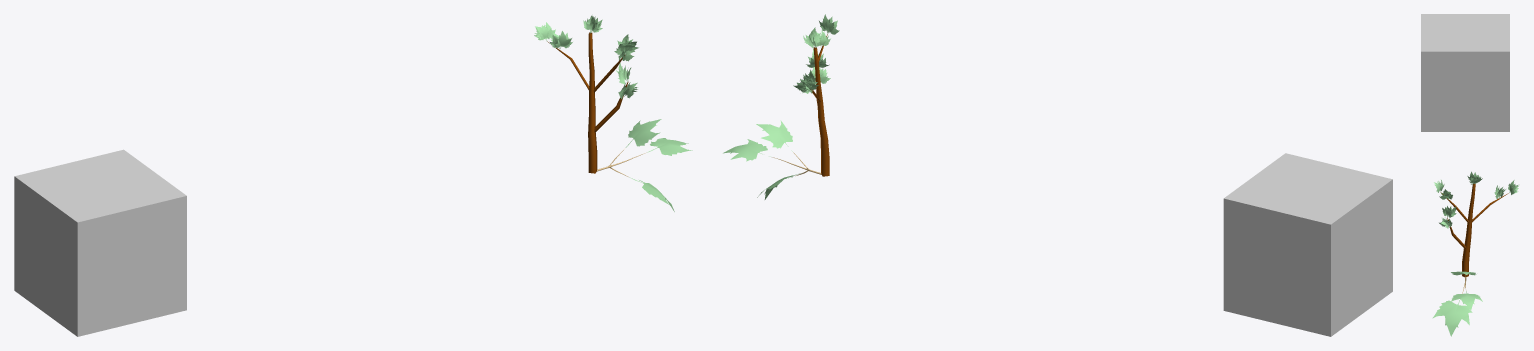
The model's file is FinalTree6.fbx.
The picture shows the model from 3 angles, left to right: view 1: azimuth 30°, elevation 25°; view 2: azimuth 150°, elevation 25°; view 3: azimuth 270°, elevation 25°; orthographic projection. The views are drawn at different scales.
Parts seen in each view (by area): view 1: Cube, Árbol, palmate.003; view 2: Cube, Árbol, palmate.003, palmate.001; view 3: Cube, Árbol, palmate.002, palmate.001.
Part boxes in pixels (x1,y1,x2,y2): Cube: (14,149,186,336); Árbol: (547,32,628,173); palmate.003: (625,119,661,147); Cube: (1223,153,1392,336); Árbol: (810,34,829,176); palmate.003: (756,120,792,151); palmate.001: (723,139,770,161); Cube: (1421,14,1509,131); Árbol: (1441,183,1508,277); palmate.002: (1432,299,1472,336); palmate.001: (1451,291,1482,310).
Size of the model in its own units: 1185 by 356 by 222.
